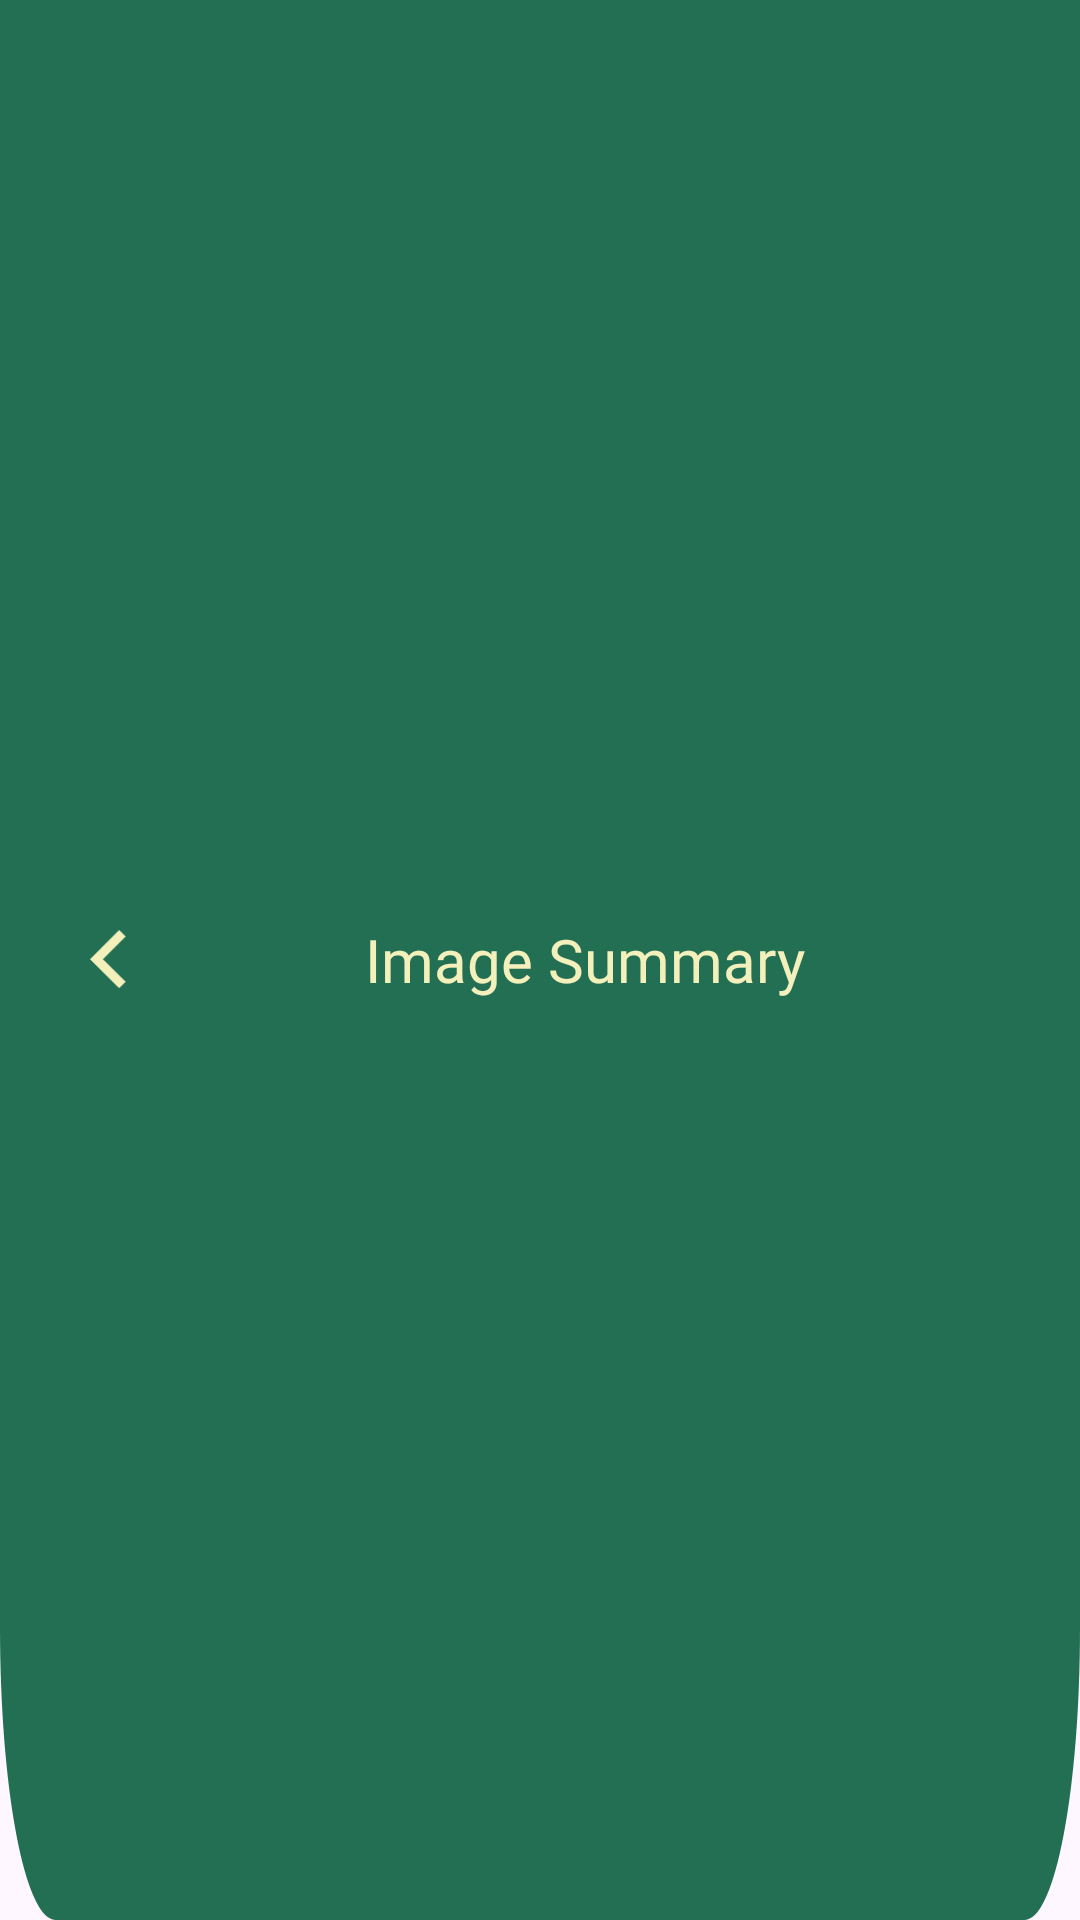

Icons on this 1080x1920 Android screen, each with the point to tap as [x,y]:
back: [108,959]
